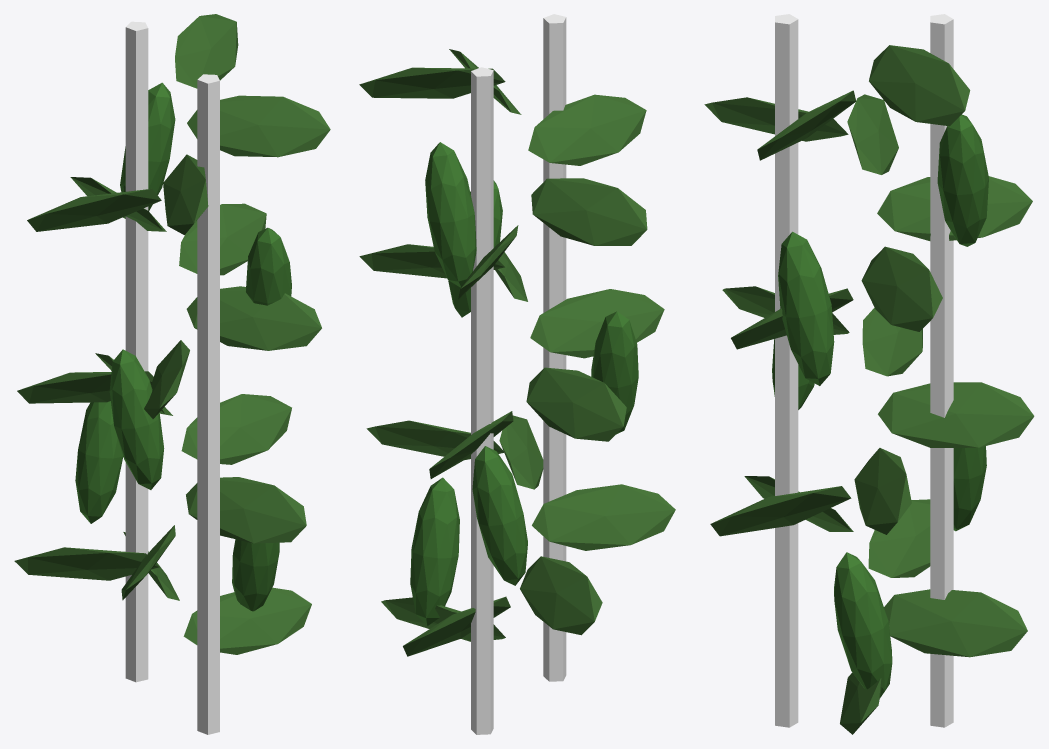
The model's file is ekin_salatalik.glb.
The picture shows the model from 3 angles, left to right: view 1: azimuth 30°, elevation 25°; view 2: azimuth 150°, elevation 25°; view 3: azimuth 270°, elevation 25°; orthographic projection. The views are drawn at different scales.
Visible parts, largest first — view 1: Cubuk; view 2: Cubuk; view 3: Cubuk.
Part boxes in pixels (x1,y1,x2,y2): Cubuk: [14, 14, 330, 734]; Cubuk: [359, 14, 675, 734]; Cubuk: [704, 14, 1034, 734].
Bounding box in the file's own units: 0.1323 × 0.3 × 0.1276.
